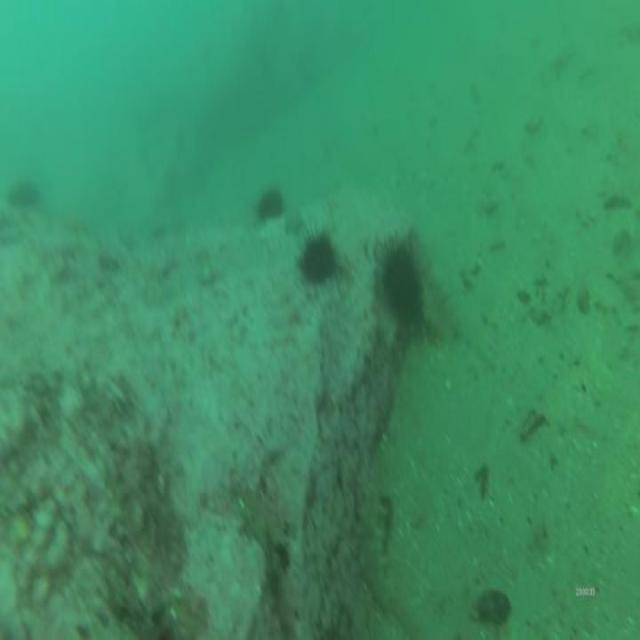echinus: (383, 254, 421, 320), (302, 234, 334, 280), (258, 188, 284, 223)
holothurian: (360, 484, 388, 605)
